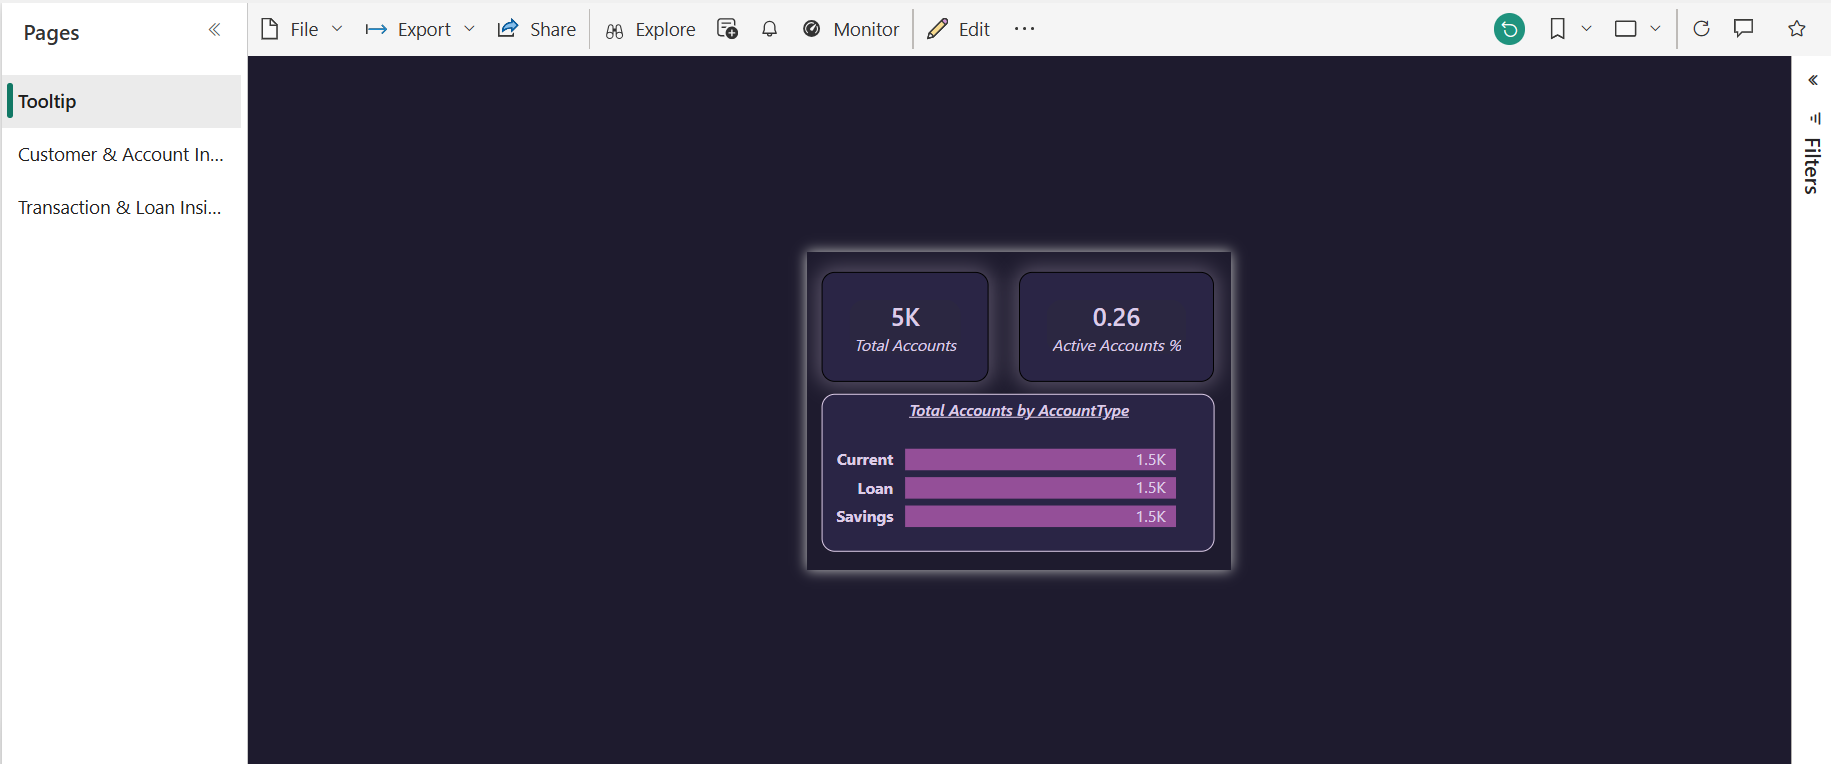

This screenshot's page, from the dashboard's own definition file:
{"tool":"powerbi","page":{"name":"Tooltip","canvas":[320,240],"ordinal":0},"visuals":[{"type":"cardVisual","fields":{"Data":["KPIs for page 1.Total Accounts"]},"box":[11,15,126,83],"z":0},{"type":"cardVisual","fields":{"Data":["KPIs for page 1.Active Accounts %"]},"box":[160,15,147,83],"z":1000},{"type":"barChart","fields":{"Category":["Accounts.AccountType"],"Y":["KPIs for page 1.Total Accounts"]},"box":[11,107,296,119],"z":2000}]}

Visuals, with their boxes on the page's 320x240 design canvas (x1, y1, x2, y2). These are canvas units, not pixel positions in the 1831x764 screenshot, which may show the page scaled, cropped or inside an application window:
cardVisual - KPIs for page 1.Total Accounts: 11:15:137:98
cardVisual - KPIs for page 1.Active Accounts %: 160:15:307:98
barChart - Accounts.AccountType x KPIs for page 1.Total Accounts: 11:107:307:226
